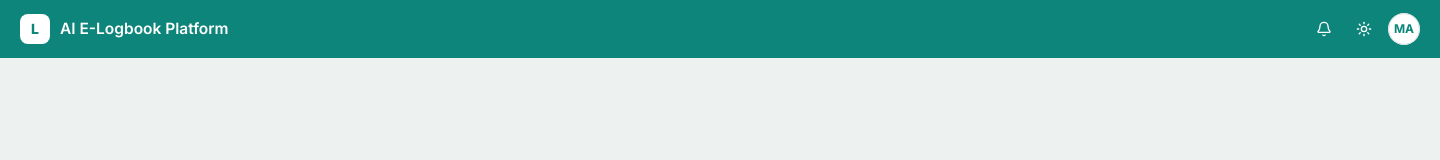
Test: Header › renders an administrator-created role this build has never heard of
The width and height of the screenshot is (1440, 160).
Click the button with aria-label "Account menu": click(1404, 29) [1388, 13, 1420, 45]
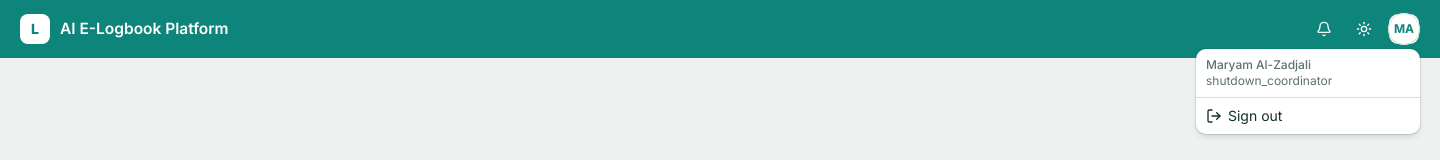
Now the text "shutdown_coordinator" is shown, box [1206, 73, 1332, 88]
